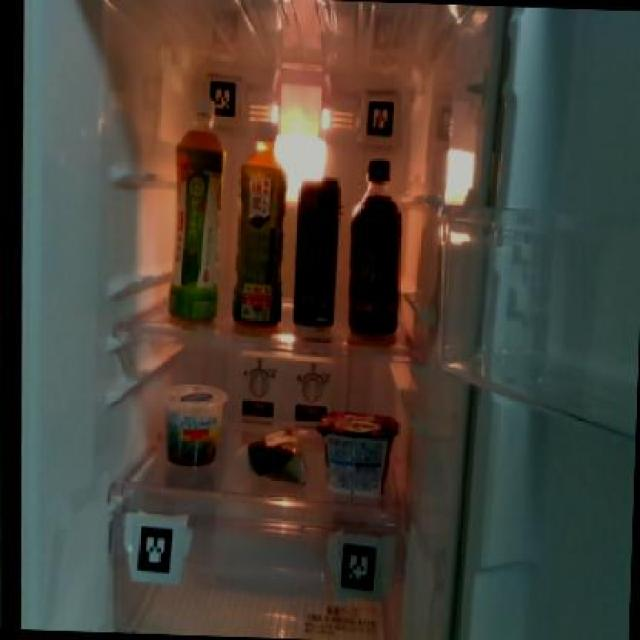coffee: (343, 153, 406, 342)
energy_drink: (290, 173, 339, 330)
pudding: (161, 380, 227, 469)
rice_ball: (238, 424, 311, 485)
tea_a: (230, 117, 288, 328)
tea_i: (166, 114, 226, 326)
yogurt: (315, 411, 400, 500)
